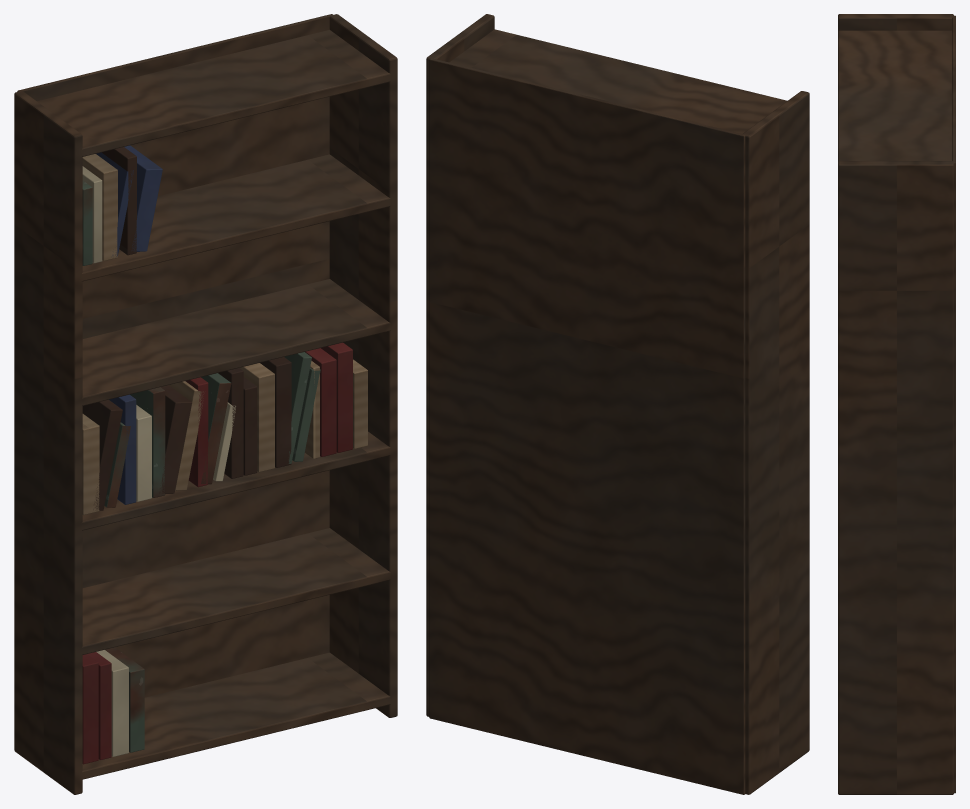
Rendered from L14_home_bookshelf_v1.glb.
3 renders of one model, left to right at view 1: azimuth 30°, elevation 25°; view 2: azimuth 150°, elevation 25°; view 3: azimuth 270°, elevation 25°, orthographic. The views are drawn at different scales.
Parts seen in each view (by area): view 1: L14_home_bookshelf_v1; view 2: L14_home_bookshelf_v1; view 3: L14_home_bookshelf_v1.
Part boxes in pixels (bbox=[...]): L14_home_bookshelf_v1: bbox=[14, 14, 397, 794]; L14_home_bookshelf_v1: bbox=[426, 14, 809, 794]; L14_home_bookshelf_v1: bbox=[838, 14, 955, 794].
Bounding box in the file's own units: 0.925 × 1.8 × 0.305.
Materials: 7 (7 with a texture image).
